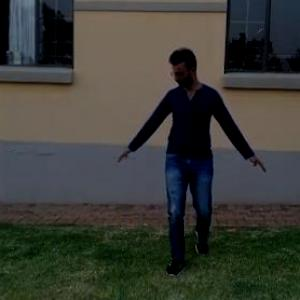land: (90, 33, 270, 264)
